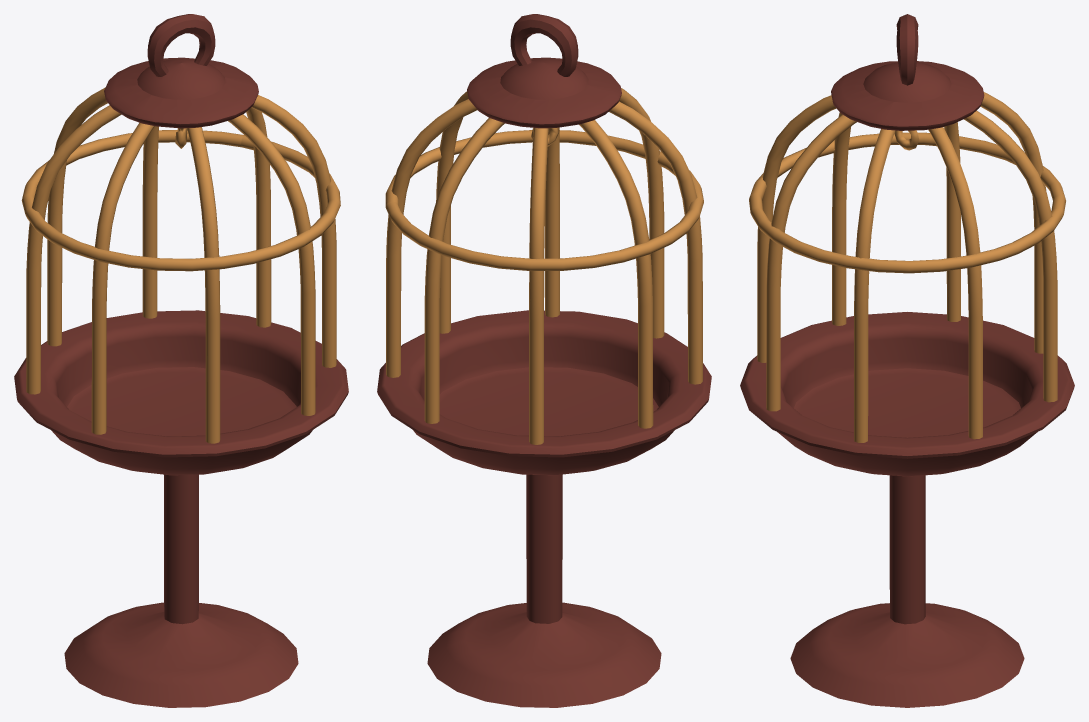
The model's file is SM_BirdCage.fbx.
3 renders of one model, left to right at view 1: azimuth 30°, elevation 25°; view 2: azimuth 150°, elevation 25°; view 3: azimuth 270°, elevation 25°, orthographic.
Visible parts, largest first — view 1: SM_BirdCageBottem, SM_BirdCageTop, SM_BirdCageRing; view 2: SM_BirdCageBottem, SM_BirdCageTop, SM_BirdCageRing; view 3: SM_BirdCageBottem, SM_BirdCageTop, SM_BirdCageRing.
Part boxes in pixels (x1,y1,x2,y2): SM_BirdCageBottem: (14, 310, 348, 707); SM_BirdCageTop: (26, 14, 336, 443); SM_BirdCageRing: (21, 130, 340, 271); SM_BirdCageBottem: (377, 310, 711, 707); SM_BirdCageTop: (386, 14, 702, 444); SM_BirdCageRing: (385, 130, 703, 271); SM_BirdCageBottem: (740, 312, 1074, 707); SM_BirdCageTop: (757, 14, 1057, 442); SM_BirdCageRing: (749, 132, 1065, 273).
Size of the model in its own units: 167 by 351 by 167.
